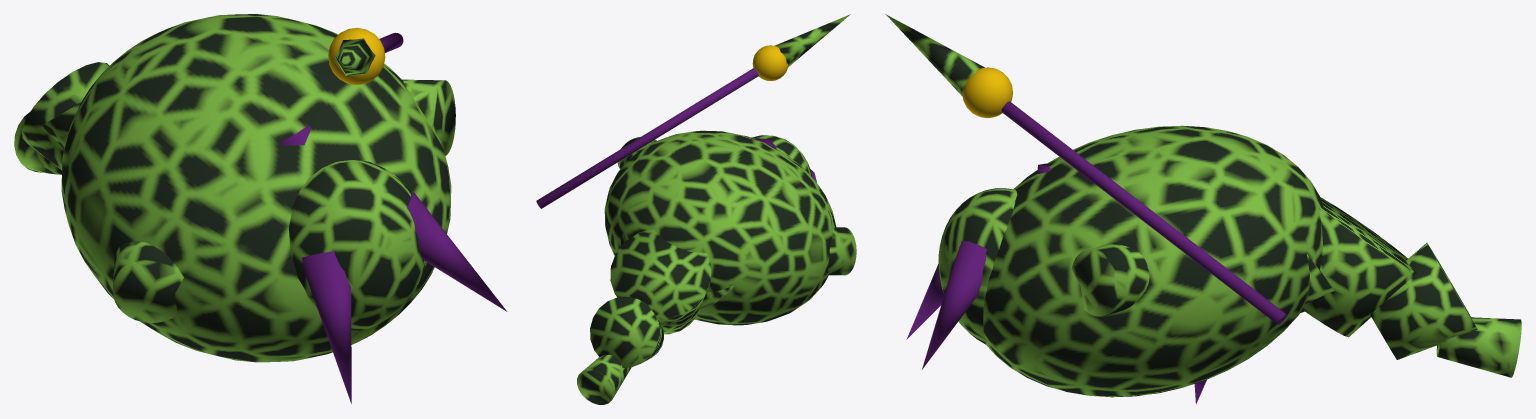
The model's file is 02_kullullu_var_toxico.obj.
The picture shows the model from 3 angles, left to right: view 1: azimuth 30°, elevation 25°; view 2: azimuth 150°, elevation 25°; view 3: azimuth 270°, elevation 25°; orthographic projection. The views are drawn at different scales.
Parts seen in each view (by area): view 1: Sphere, Sphere.001, Cylinder.001, Cone.001, Cone.009, Cone, Cylinder, Icosphere.001, Cone.011, Cone.010, Cone.008; view 2: Sphere, Cone.008, Cone.009, Cylinder.002, Cone.010, Cylinder.001, Cone.011, Icosphere.001, Sphere.001, Cone.007; view 3: Sphere, Cone.008, Cone.009, Sphere.001, Cylinder.002, Cylinder, Cone.010, Cone, Cone.011, Icosphere.001, Cone.001, Cone.007.
Part boxes in pixels (left/top/right/bottom): Sphere: left=61, top=14, right=451, bottom=362; Sphere.001: left=288, top=160, right=425, bottom=330; Cylinder.001: left=113, top=241, right=183, bottom=322; Cone.001: left=302, top=251, right=351, bottom=403; Cone.009: left=22, top=62, right=109, bottom=169; Cone: left=407, top=192, right=507, bottom=311; Cylinder: left=402, top=79, right=455, bottom=155; Icosphere.001: left=328, top=27, right=385, bottom=84; Cone.011: left=334, top=38, right=375, bottom=75; Cone.010: left=14, top=111, right=61, bottom=174; Cone.008: left=42, top=102, right=80, bottom=148; Sphere: left=604, top=130, right=836, bottom=325; Cone.008: left=610, top=228, right=711, bottom=334; Cone.009: left=590, top=296, right=663, bottom=367; Cylinder.002: left=536, top=68, right=758, bottom=208; Cone.010: left=577, top=354, right=631, bottom=404; Cylinder.001: left=828, top=227, right=856, bottom=275; Cone.011: left=775, top=14, right=850, bottom=67; Icosphere.001: left=752, top=45, right=788, bottom=80; Sphere.001: left=751, top=135, right=812, bottom=176; Cone.007: left=620, top=233, right=734, bottom=309; Sphere: left=983, top=125, right=1323, bottom=397; Cone.008: left=1302, top=197, right=1417, bottom=337; Cone.009: left=1370, top=243, right=1477, bottom=359; Sphere.001: left=938, top=188, right=1017, bottom=344; Cylinder.002: left=1001, top=101, right=1286, bottom=324; Cylinder: left=1071, top=244, right=1149, bottom=316; Cone.010: left=1436, top=317, right=1521, bottom=377; Cone: left=922, top=240, right=986, bottom=369; Cone.011: left=885, top=14, right=984, bottom=96; Icosphere.001: left=962, top=67, right=1012, bottom=118; Cone.001: left=906, top=264, right=944, bottom=339; Cone.007: left=1300, top=254, right=1334, bottom=312.
Size of the model in its own units: 4.82 by 4.54 by 7.46.
Materials: 21 (21 with a texture image).
